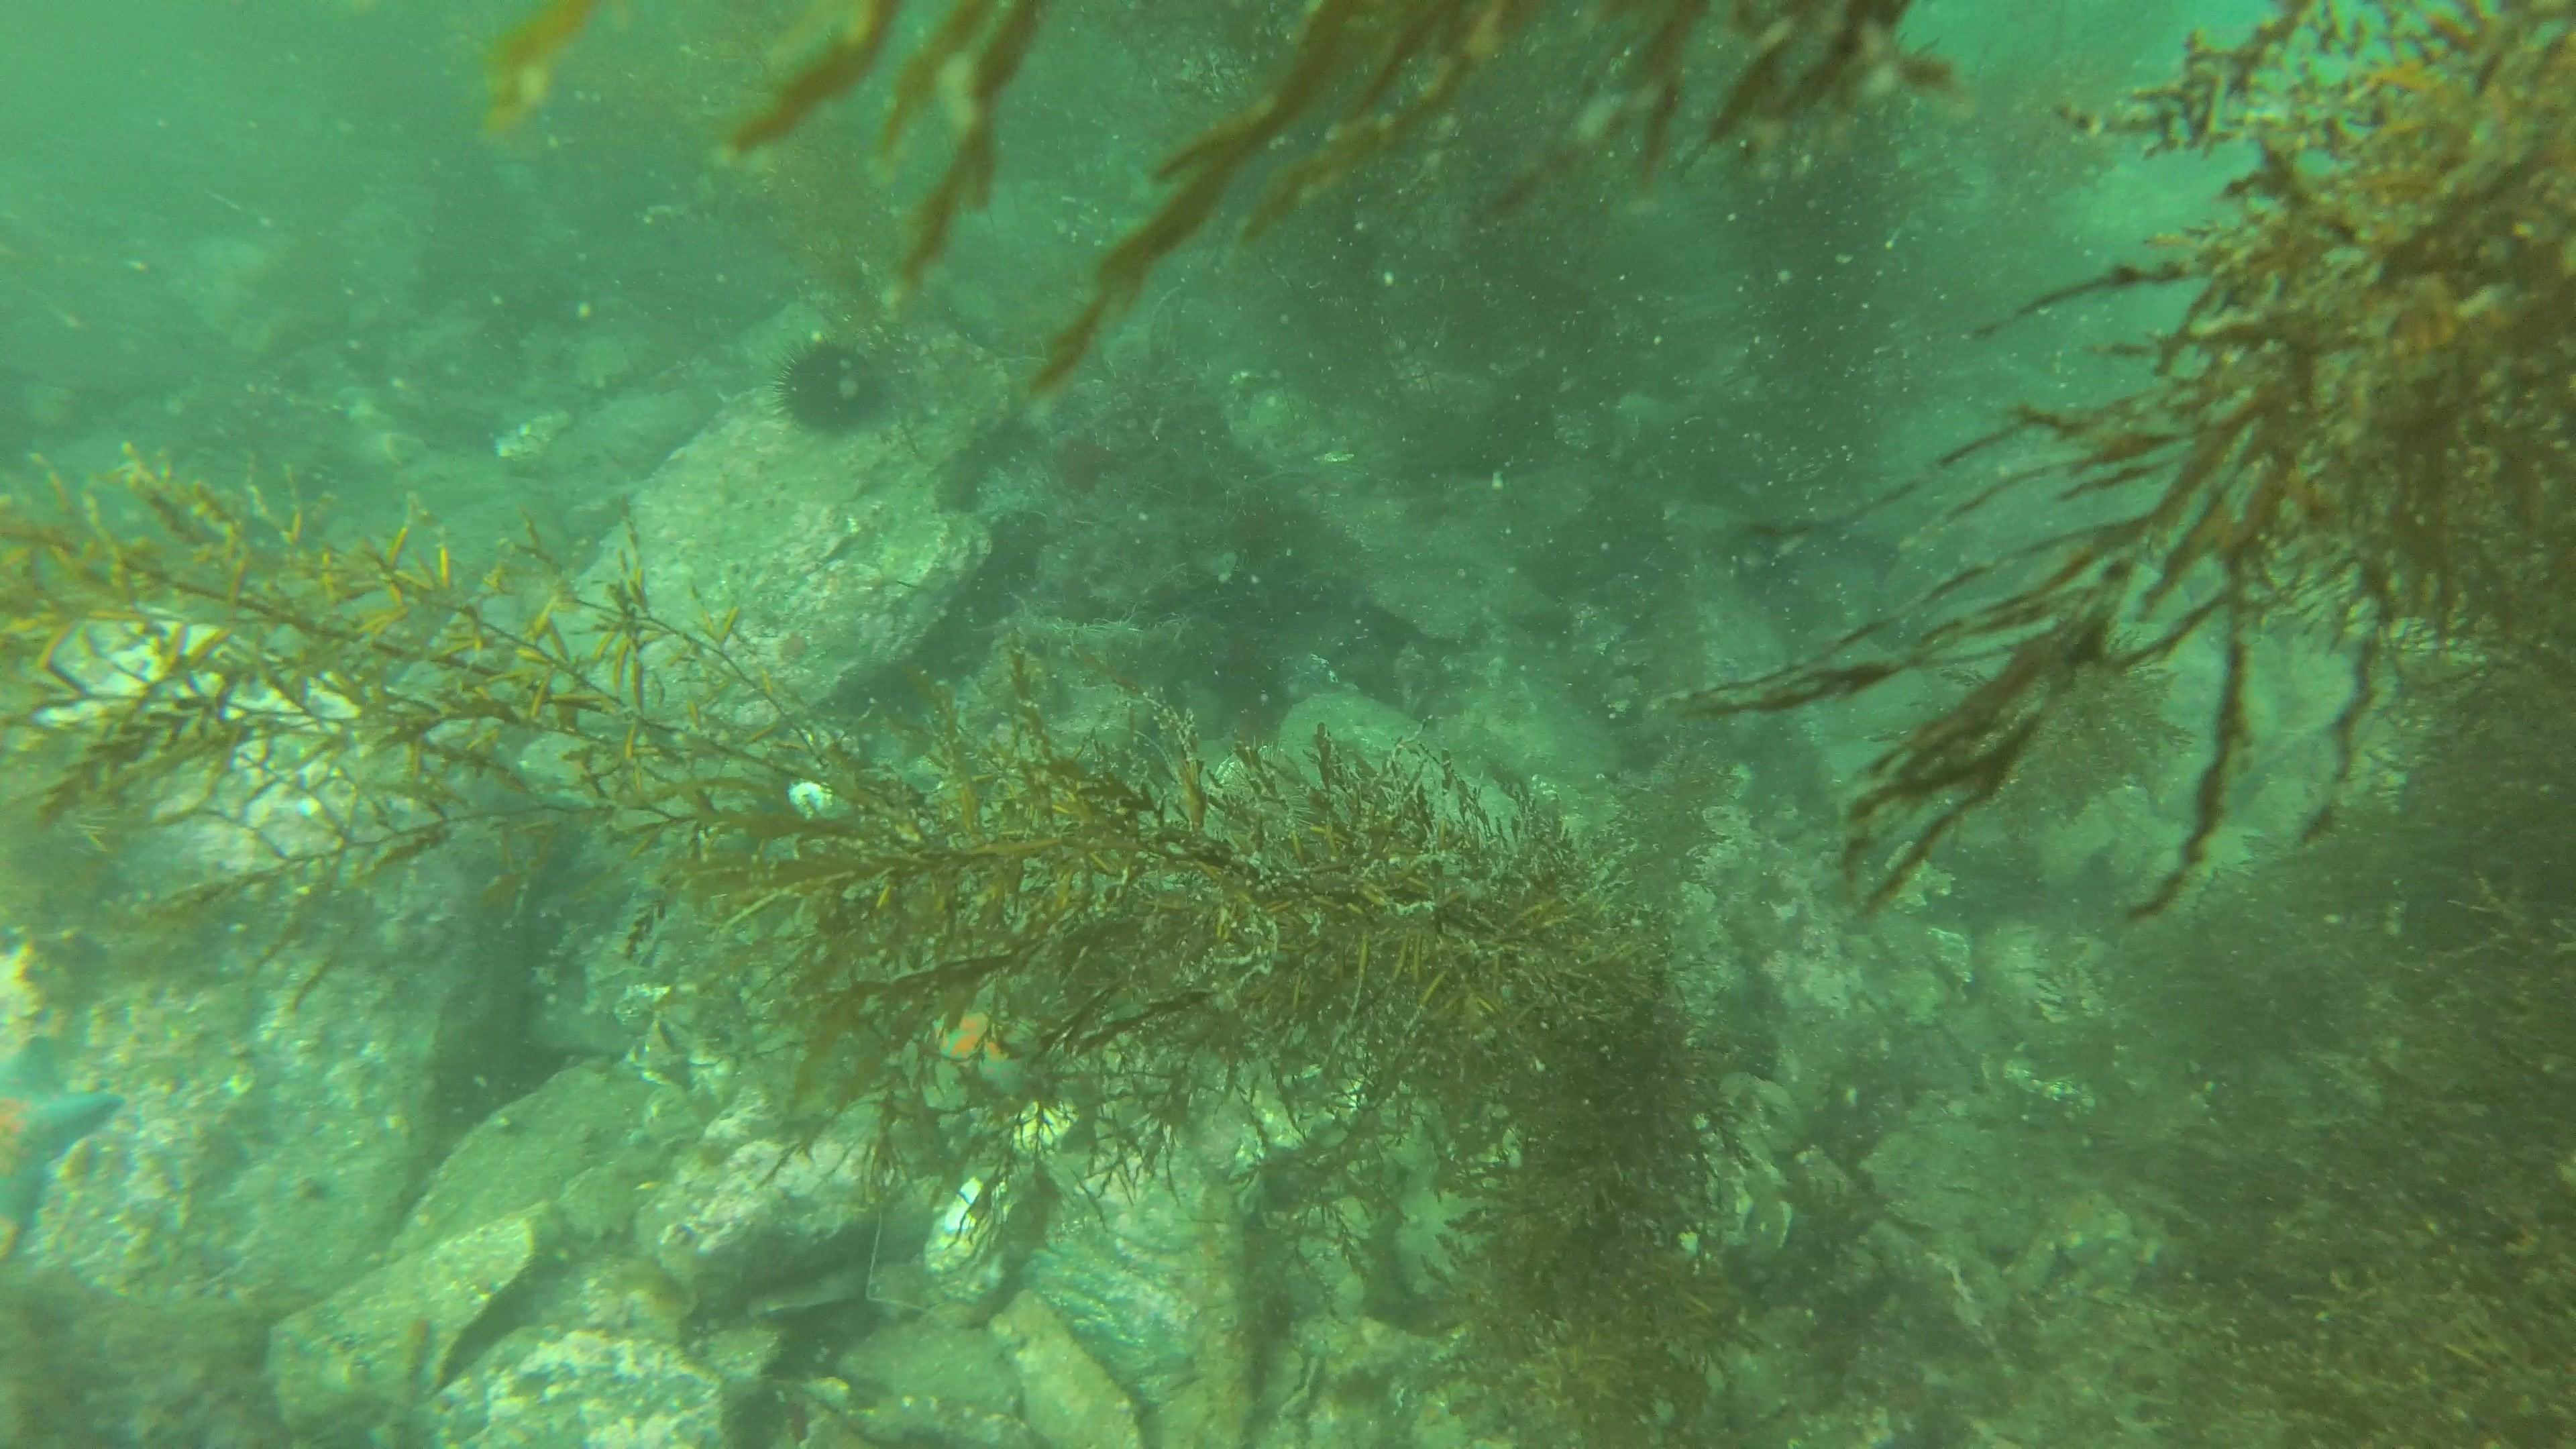echinus: (766, 320, 886, 430)
starfish: (0, 1035, 124, 1233), (925, 985, 1049, 1111)
